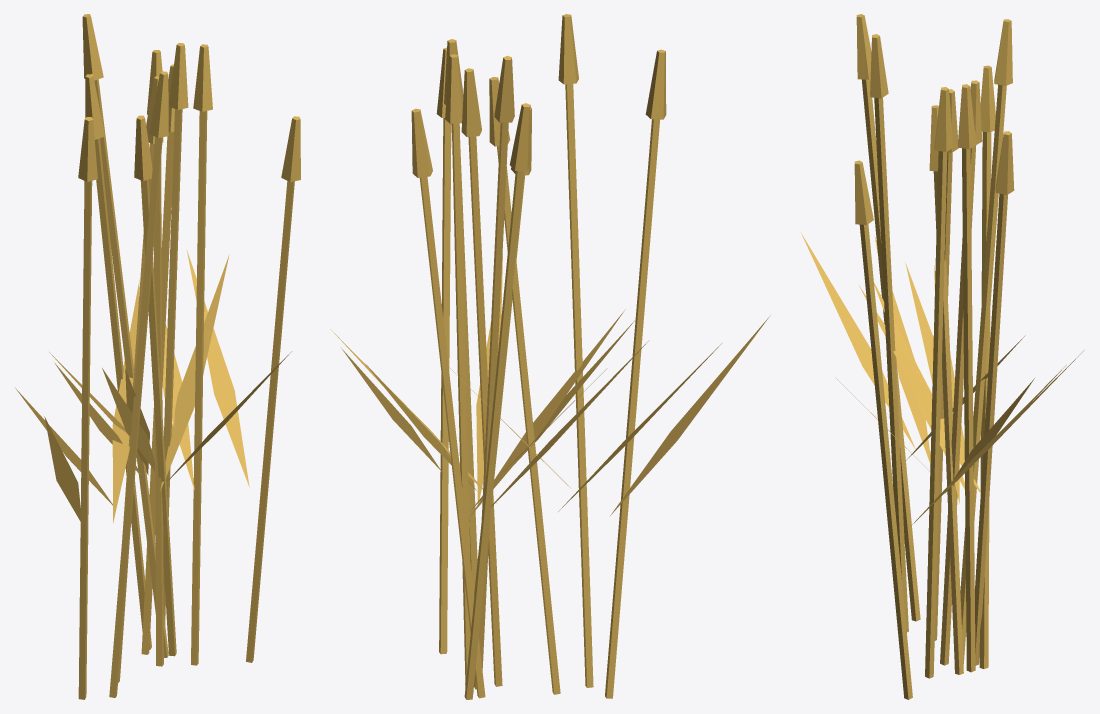
Rendered from wheat_s3.glb.
The picture shows the model from 3 angles, left to right: view 1: azimuth 30°, elevation 25°; view 2: azimuth 150°, elevation 25°; view 3: azimuth 270°, elevation 25°; orthographic projection. The views are drawn at different scales.
Parts seen in each view (by area): view 1: wheat; view 2: wheat; view 3: wheat.
Part boxes in pixels (x1=…): wheat: x1=15, y1=14, x2=300, y2=699; wheat: x1=330, y1=14, x2=770, y2=699; wheat: x1=801, y1=14, x2=1084, y2=699.
Size of the model in its own units: 0.4718 by 0.9402 by 0.3901.
